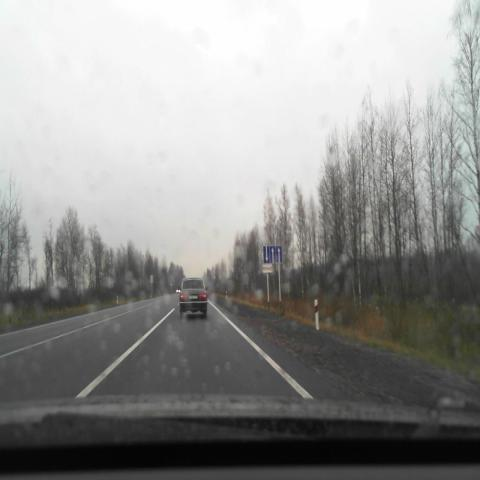5_15_7: (263, 245, 282, 263)
